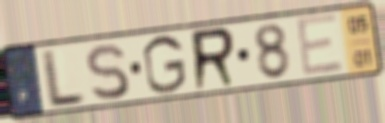8: (252, 22, 293, 82)
E: (293, 11, 347, 81)
G: (140, 33, 189, 97)
L: (41, 46, 88, 111)
R: (189, 24, 239, 94)
S: (83, 41, 132, 103)
